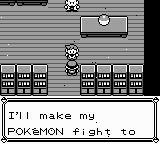main: (65, 60, 79, 76)
no-caminable: (81, 65, 142, 96), (0, 64, 48, 96), (145, 0, 159, 96), (81, 16, 128, 38), (0, 0, 48, 6)
npc: (65, 43, 79, 60), (64, 0, 80, 12)
poke-ball: (98, 14, 110, 26)
texto: (0, 97, 158, 142)
